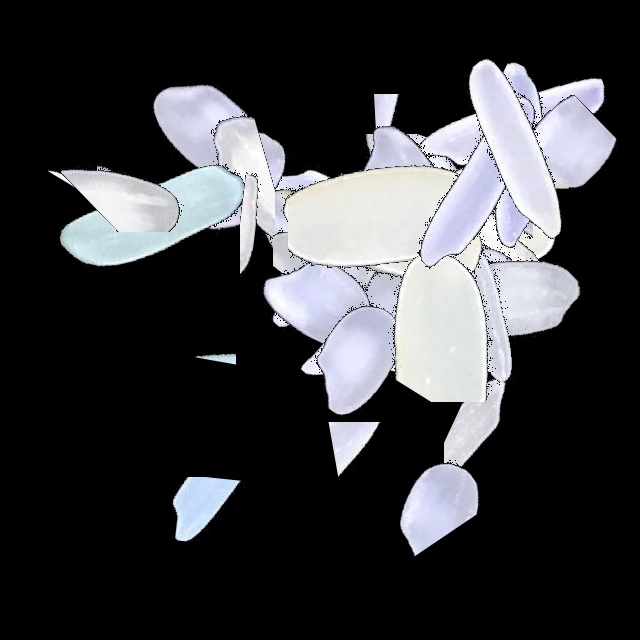Broken: (288, 52, 462, 302), (278, 134, 528, 303), (330, 233, 580, 402), (154, 179, 404, 345), (249, 187, 499, 353), (456, 49, 619, 299), (352, 180, 602, 341), (280, 60, 440, 310), (343, 138, 493, 388), (273, 104, 422, 354), (341, 346, 484, 596), (370, 17, 620, 159), (23, 91, 273, 232), (398, 91, 533, 341), (444, 332, 577, 582), (86, 477, 336, 605), (148, 74, 275, 324), (429, 126, 547, 376), (307, 94, 557, 205), (240, 93, 348, 343), (273, 106, 377, 356), (261, 422, 511, 520), (0, 117, 250, 210), (146, 186, 236, 436), (316, 282, 566, 370), (145, 207, 395, 294), (338, 199, 421, 449), (97, 53, 175, 303)
Full: (322, 99, 572, 349), (233, 92, 483, 342), (114, 56, 364, 306), (84, 4, 334, 254), (271, 98, 521, 348), (224, 135, 474, 385), (358, 56, 608, 306), (364, 132, 614, 382), (225, 154, 475, 404), (27, 94, 277, 344), (237, 150, 487, 400), (262, 224, 512, 474), (390, 0, 640, 250), (217, 136, 467, 386), (193, 172, 443, 422), (386, 176, 636, 426), (356, 189, 606, 439), (259, 106, 509, 356), (390, 30, 640, 280), (232, 233, 482, 483), (352, 55, 602, 305), (390, 24, 640, 274)
